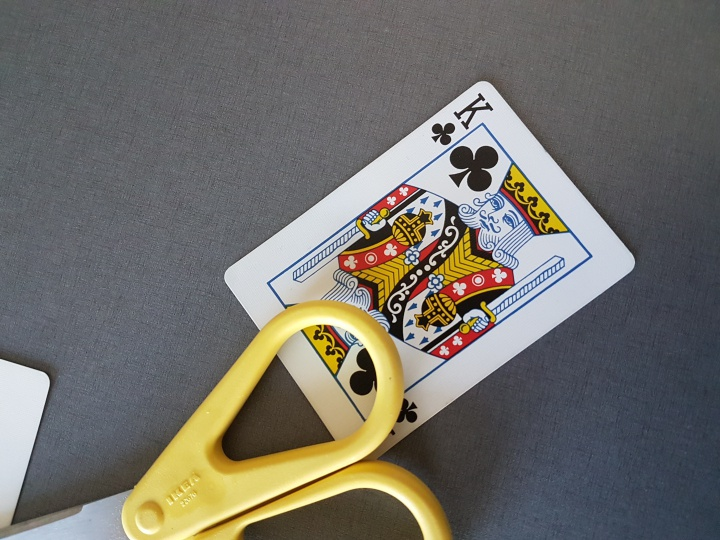king: (215, 58, 644, 480)
